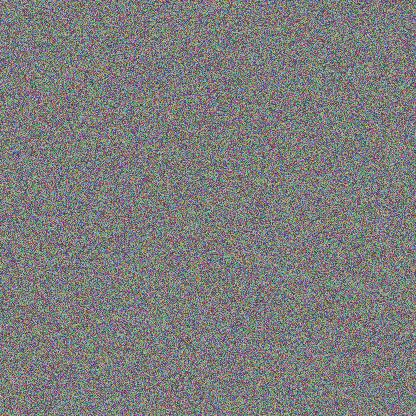empty: (179, 47, 264, 133)
occupied: (114, 303, 194, 353)
